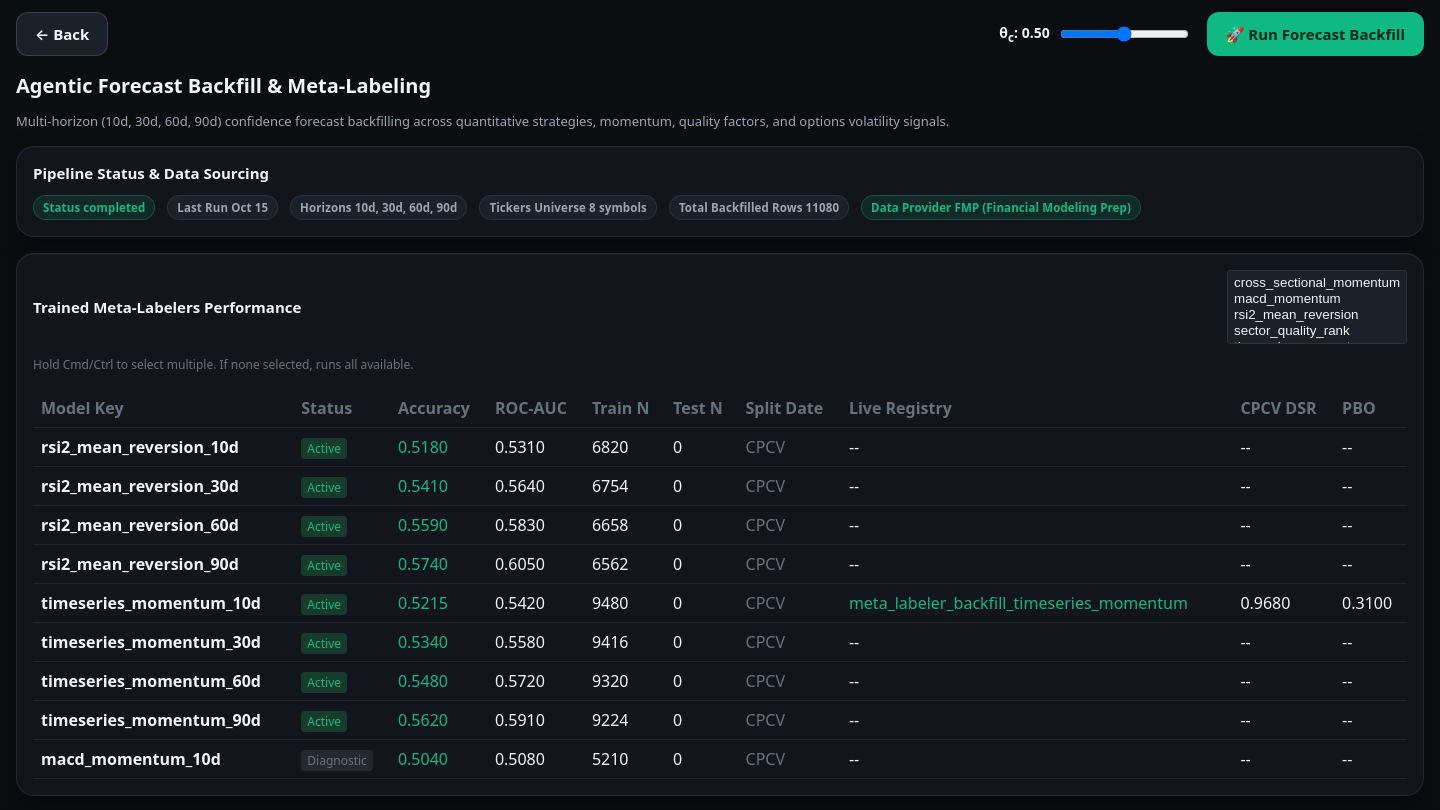
Test case: ForecastBackfillScreen (real mock API) › running the backfill polls the job status and shows success, then reloads
Expected: the text "timeseries_momentum_10d" is shown, [33,584,293,623]
Click the button "🚀 Run Forecast Backfill". click: (1315, 34)
box: [1207,12,1424,56]
Wait 2500 ms
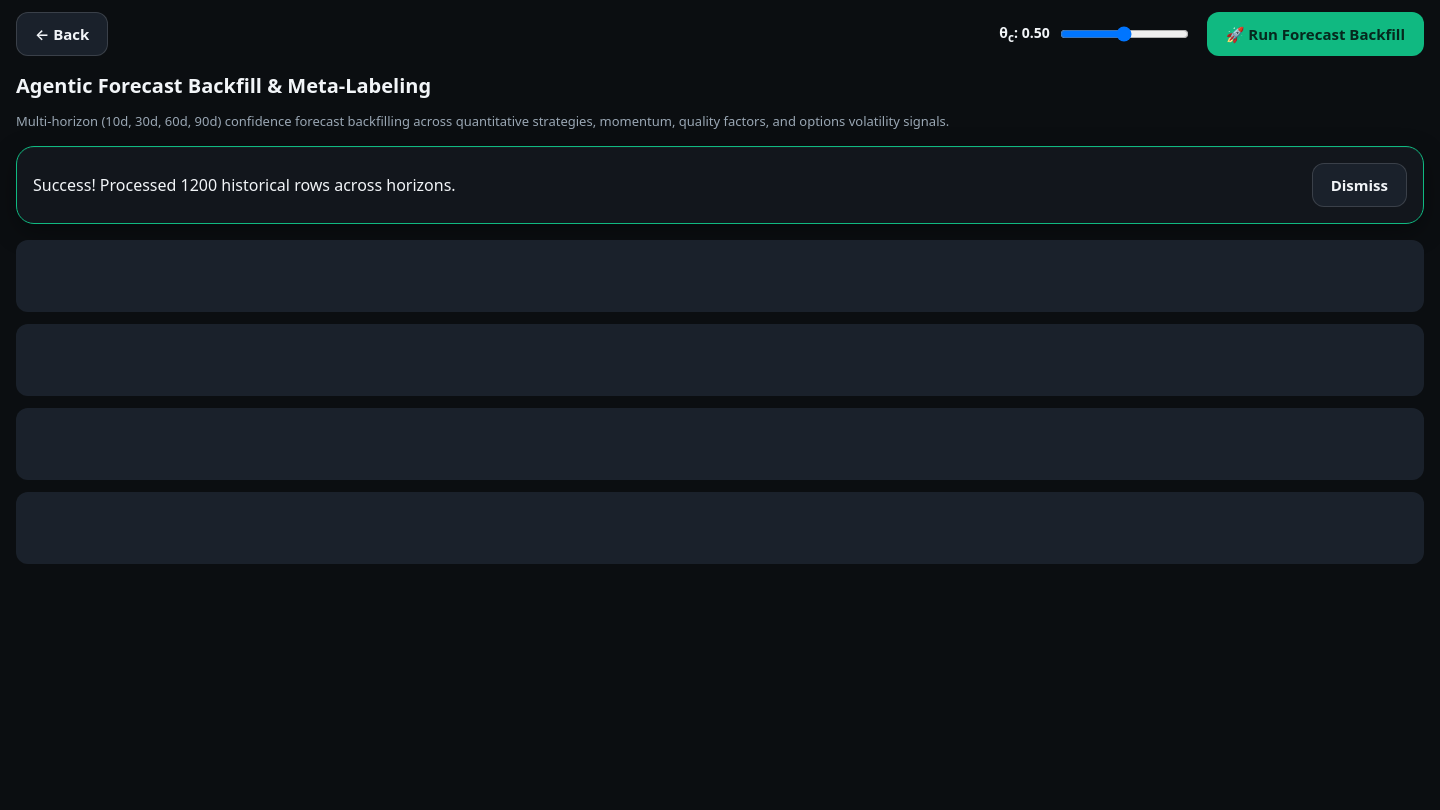
Now the text "Success! Processed 1200 historical rows across horizons." is shown, box [33,174,456,196]
